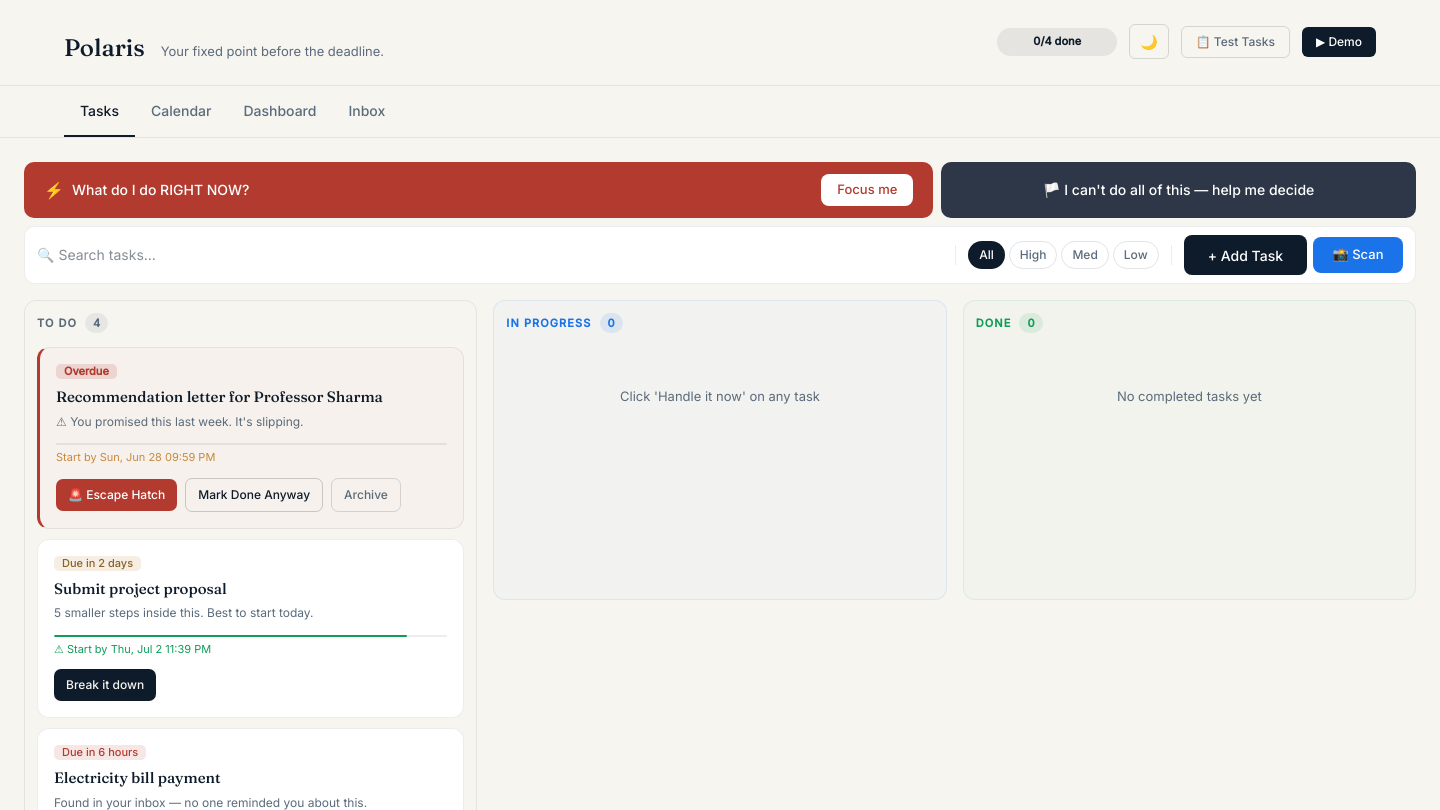
Scenario: Module 12: DOM Structure & Mobile › Calendar grid, cell, and task title classes present
Click the button with id "tab-calendar" at (181, 112), box [135,86,227,137]
(page scrolled)
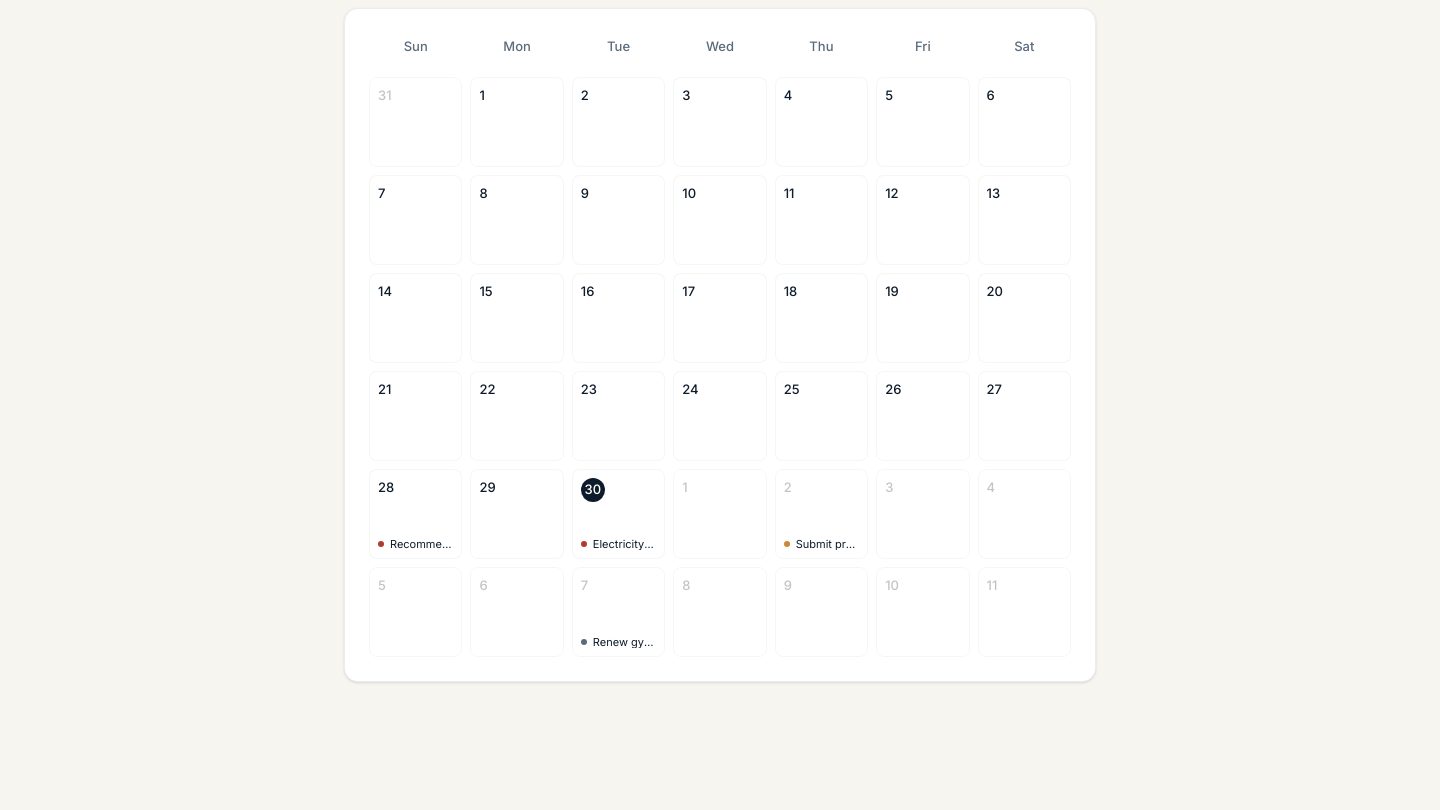
Check: the text "Recommendation letter for Professor Sharma" is shown, box [390,538,453,550]
Check: the element with class "calendar-grid" is shown, box [369,76,1071,656]
Check: the element with class "calendar-cell" showing "31" is shown, box [369,76,462,166]
